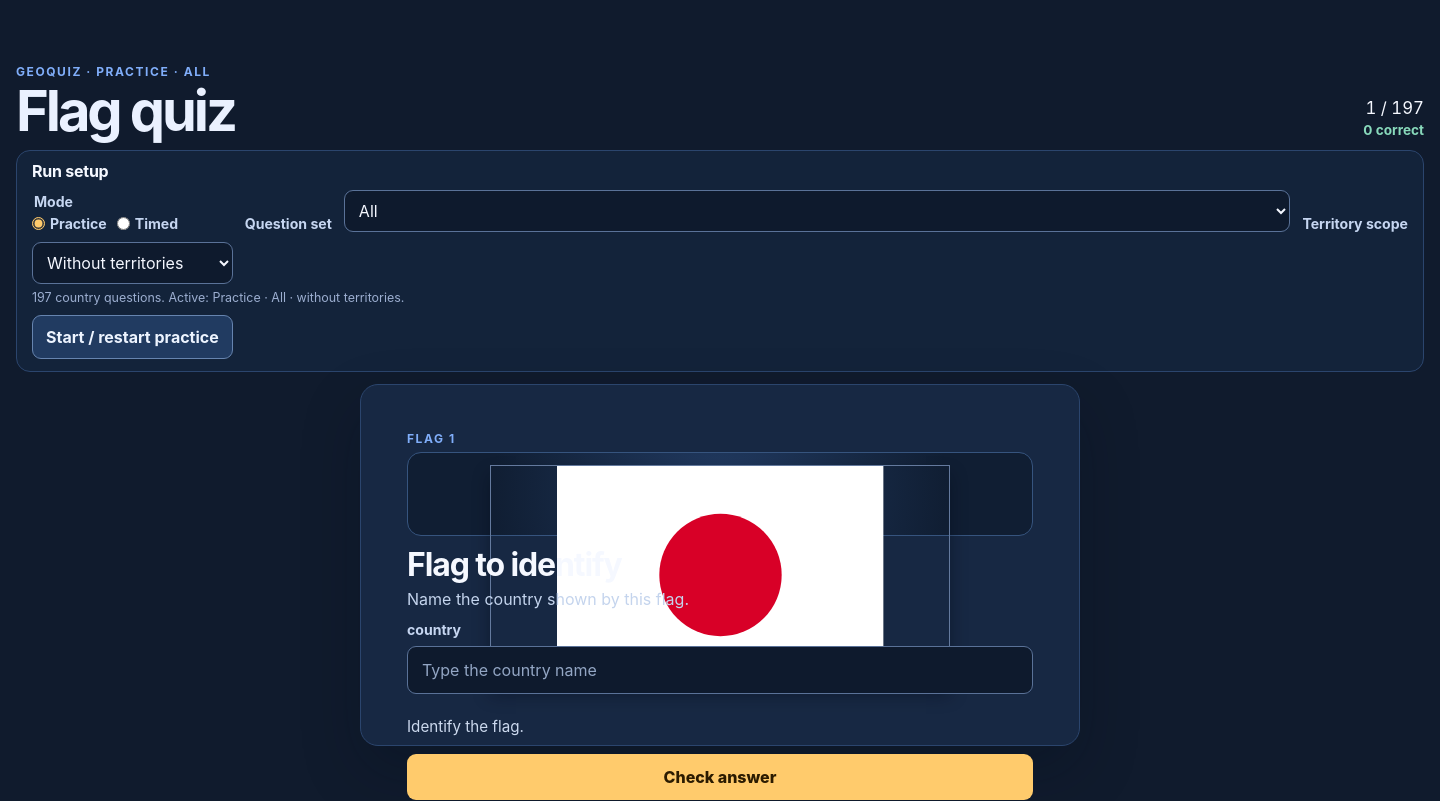
Test: FlagCountryQuiz › offers territory wording and starts timed runs without a check button
Select "With territories" in the dropdown labelled "Territory scope" at (132,263), box [32,242,233,284]
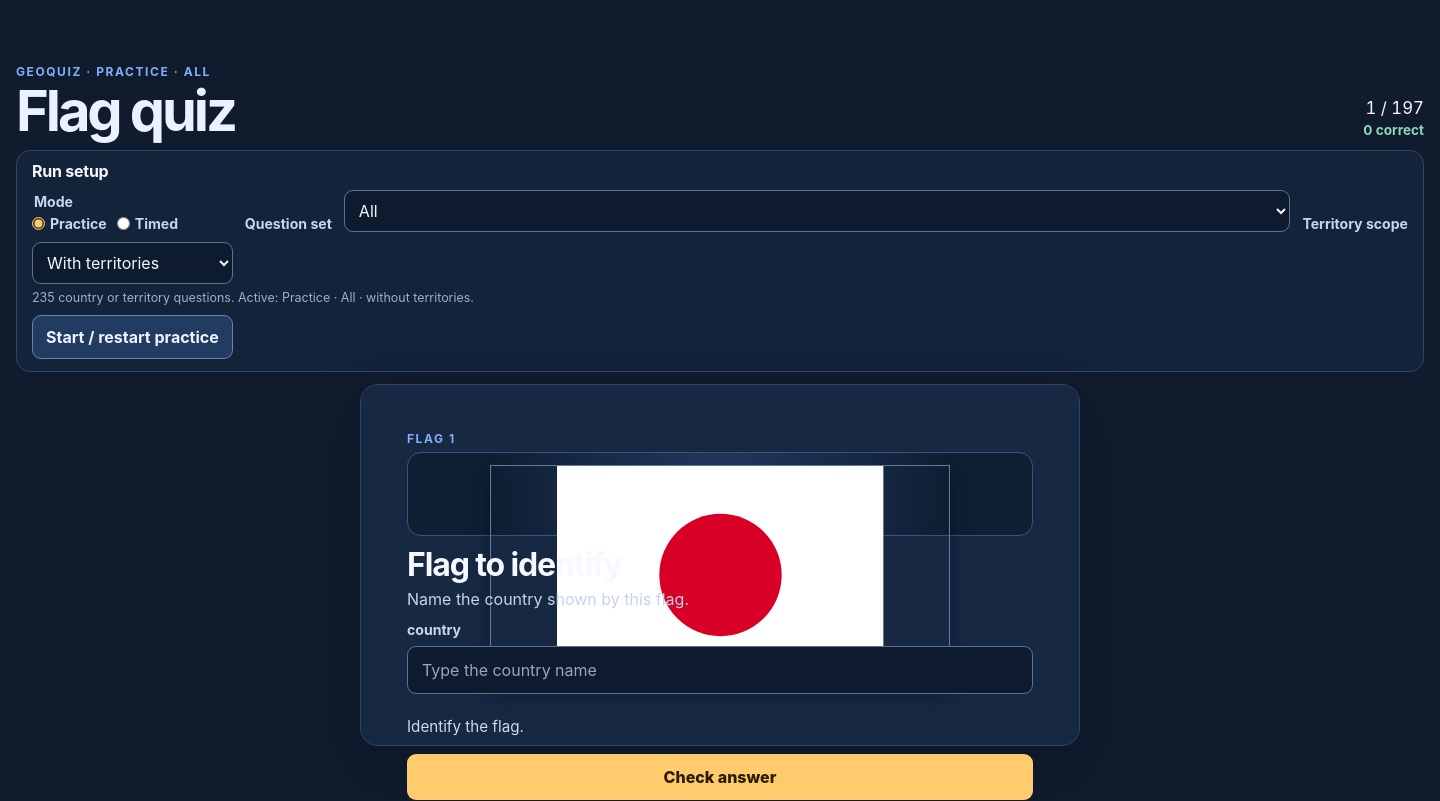
expect the text "country or territory questions" is shown: met, box [32,290,474,305]
Click the radio button labelled "Timed" at (123,223), box [117,217,130,230]
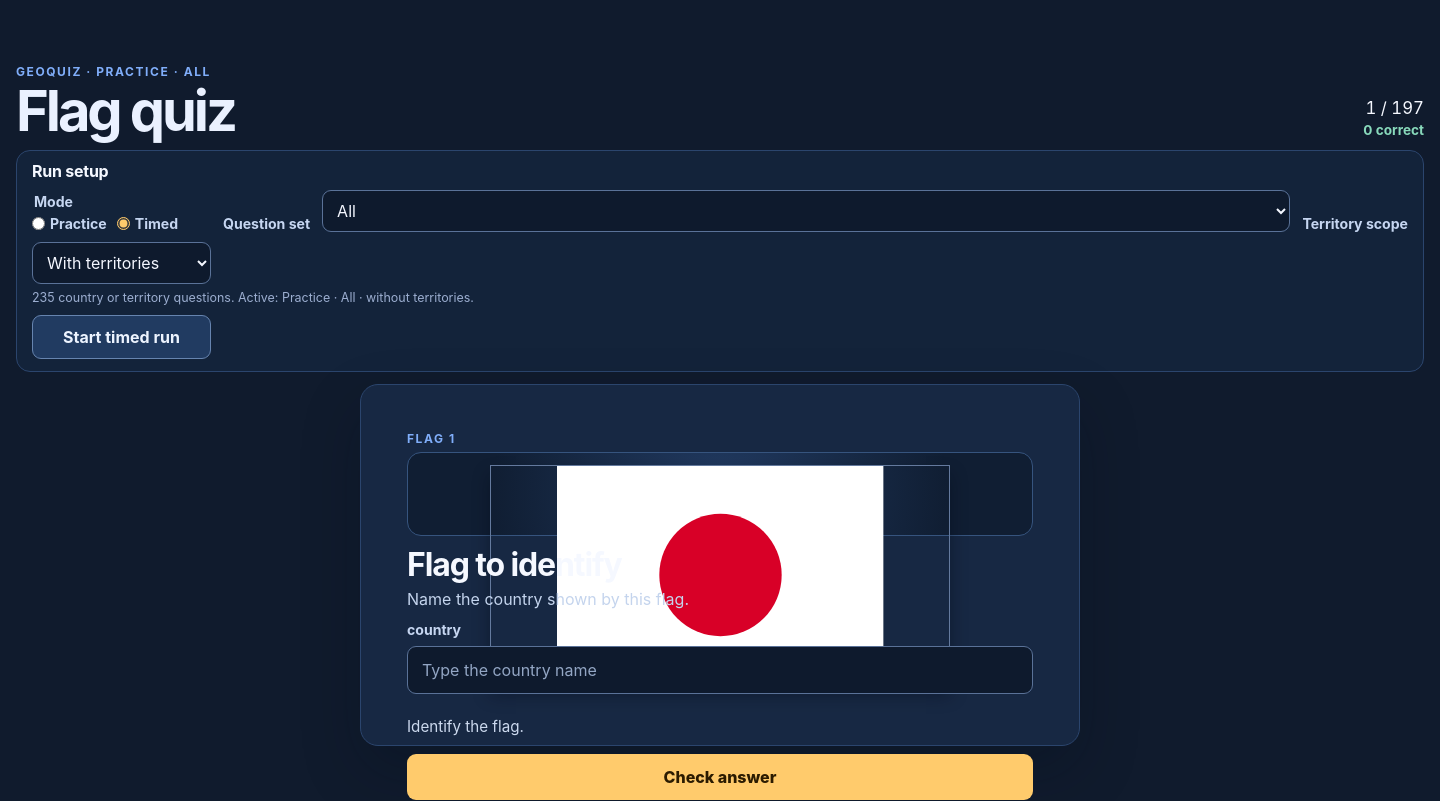
Click the button "Start timed run" at (122,337), box [32,315,211,359]
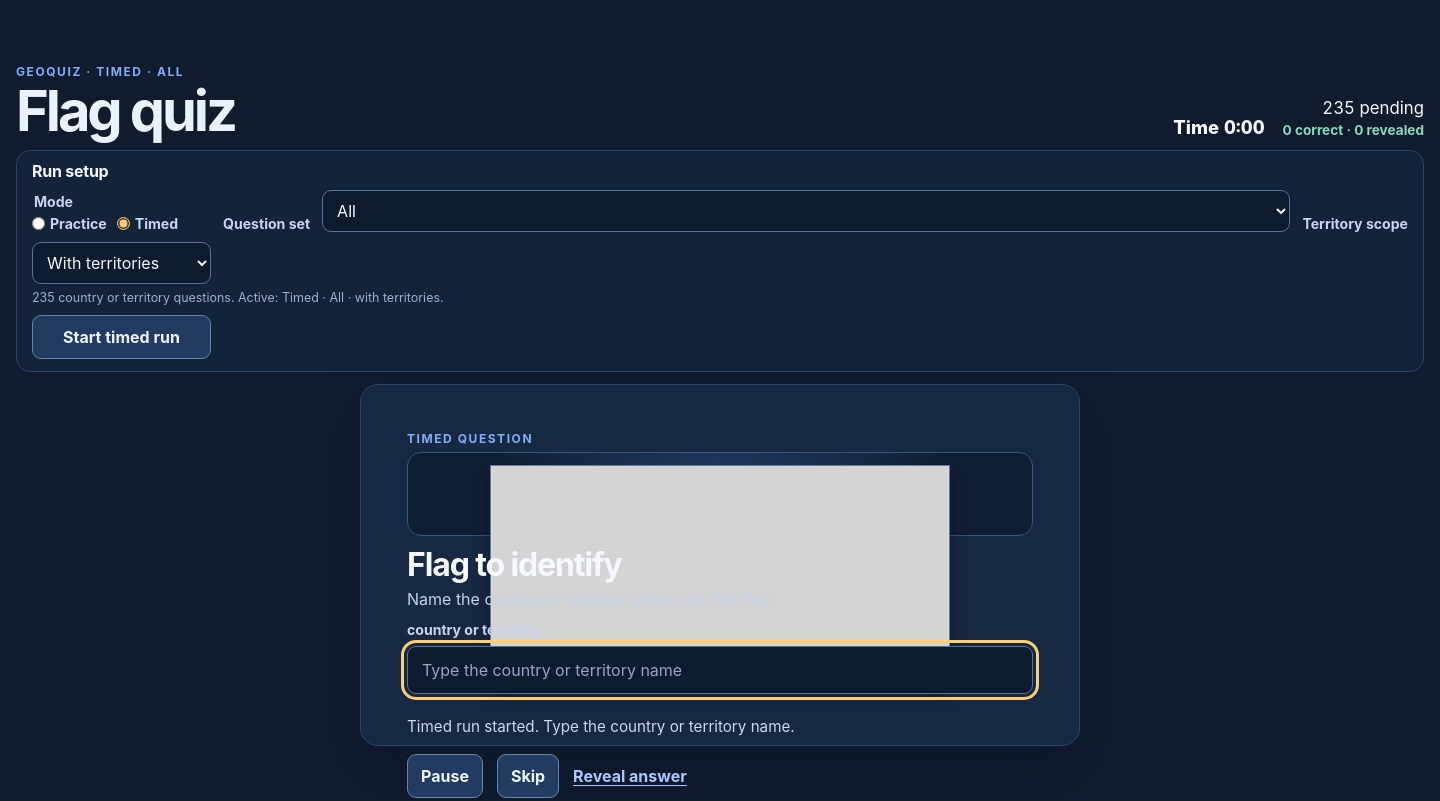
expect the button "Check answer" is gone: met
expect the button "Skip" is shown: met, box [497,754,559,798]
